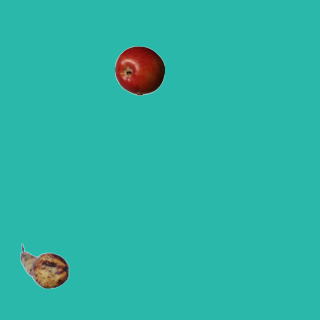Apple Braeburn: (114, 45, 164, 95)
Pear Abate: (19, 241, 69, 291)
